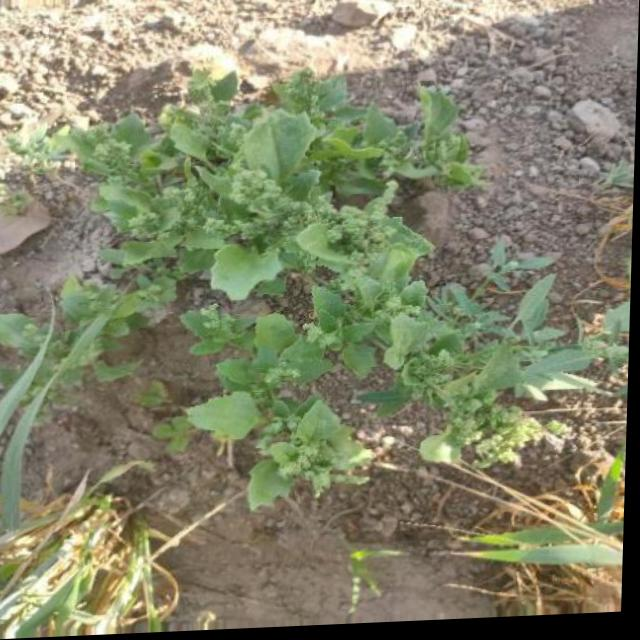weed: (27, 54, 551, 495)
